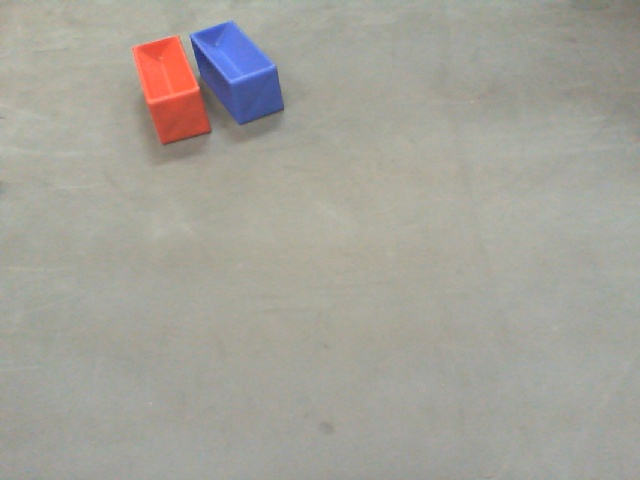BlueSample: (191, 20, 285, 125)
RedSample: (129, 32, 214, 146)
